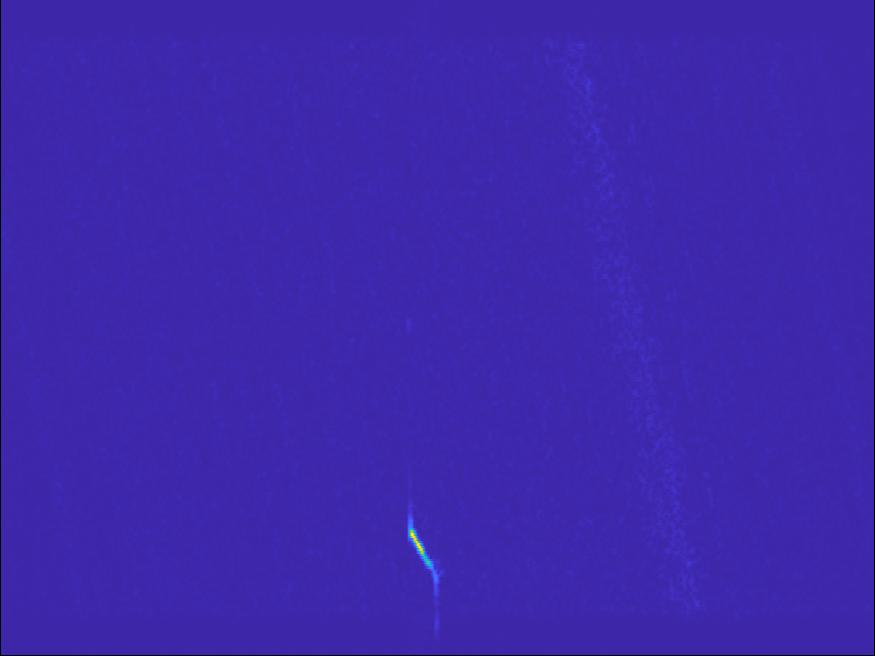Interference: (1, 288, 211, 373), (648, 305, 762, 346)
